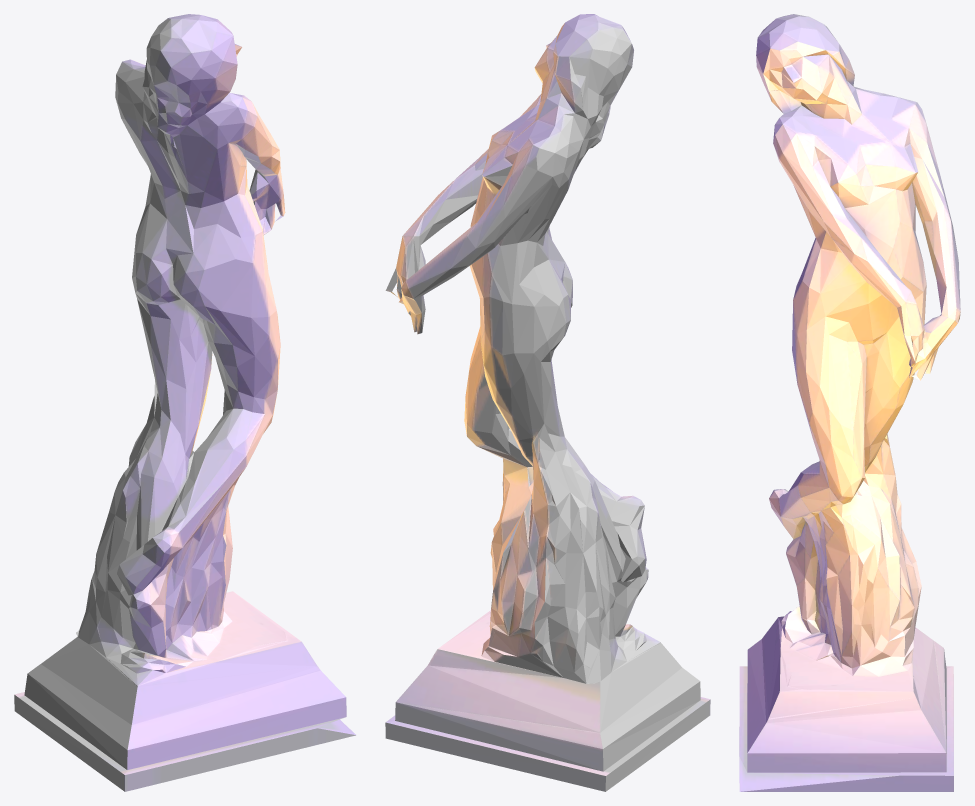
Rendered from diversity.glb.
The picture shows the model from 3 angles, left to right: view 1: azimuth 30°, elevation 25°; view 2: azimuth 150°, elevation 25°; view 3: azimuth 270°, elevation 25°; orthographic projection. The views are drawn at different scales.
Parts seen in each view (by area): view 1: module_3; view 2: module_3; view 3: module_3.
Boxes of the visible parts, x1=… form: module_3: x1=14, y1=14, x2=356, y2=791; module_3: x1=385, y1=14, x2=710, y2=791; module_3: x1=739, y1=14, x2=960, y2=791.
Bounding box in the file's own units: 91.44 × 254 × 71.89.
